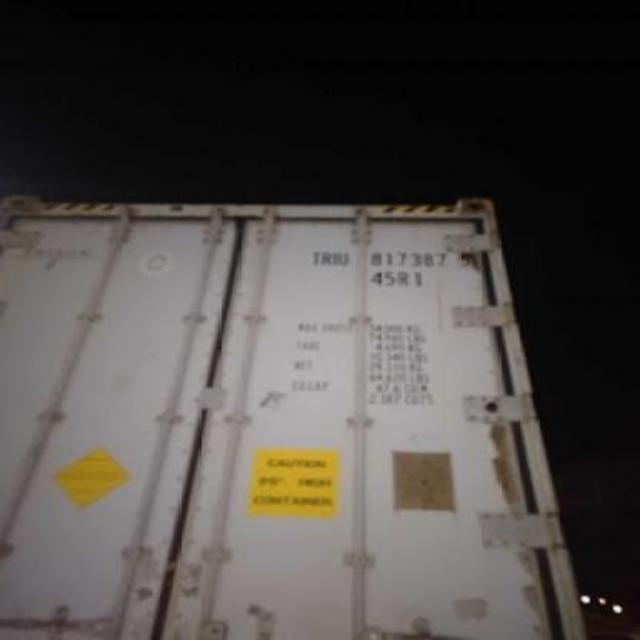1: (382, 246, 396, 270)
3: (408, 248, 420, 268)
7: (430, 245, 448, 272), (394, 246, 410, 268)
8: (418, 246, 436, 270), (366, 244, 384, 266)
I: (330, 244, 338, 270)
R: (320, 246, 332, 270)
T: (308, 244, 322, 266)
U: (340, 244, 352, 272)
